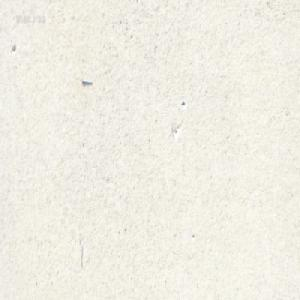Nail: (79, 76, 93, 84)
